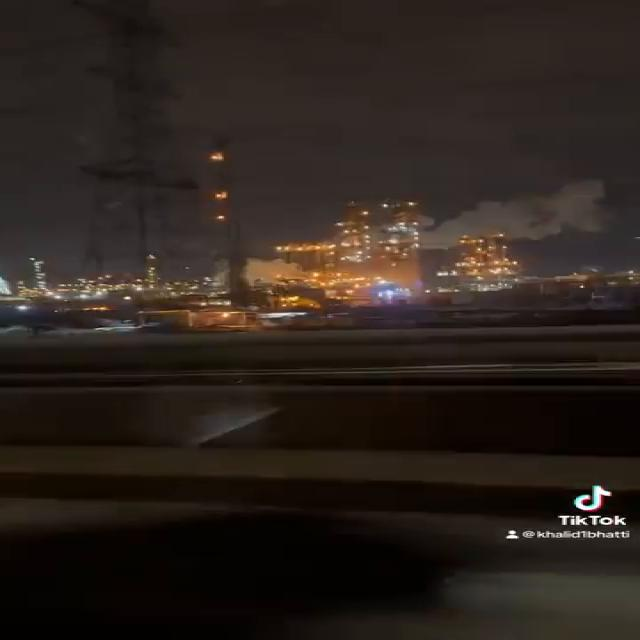smoke: (325, 179, 604, 263)
